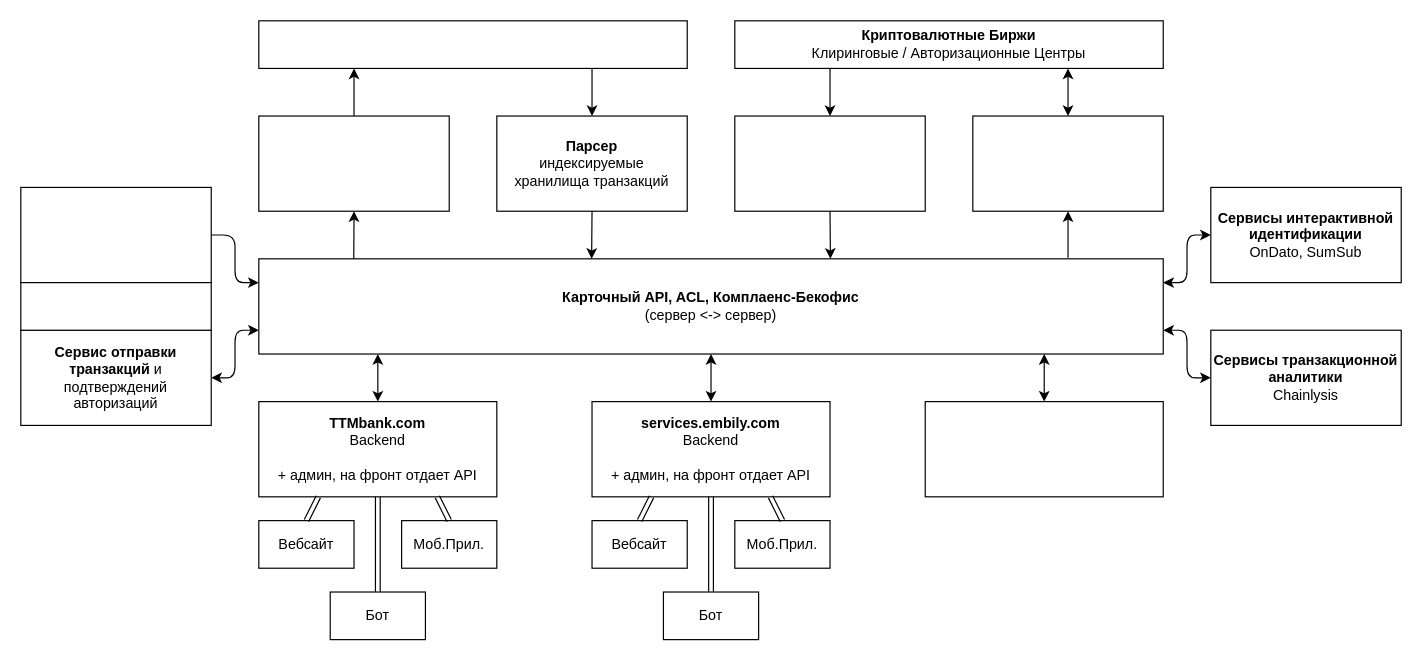
The diagram is 1422 pixels wide and 660 high, and some of its shapes have lost their labels. The shapes that lost their labels are listed below. From the top down, each one's centre as x and y in pixels, then its label:
At point (472, 44): "Блокчейны (Bitcoin, Ethereum, Binance Chain)".
At point (353, 163): "Хранилище Ключей подпись и отправка транзакций".
At point (829, 163): "Тикер мониторинг курсов крипто и валютные".
At point (1067, 163): "Автоматор обменные операции клиринг транзакции".
At point (115, 234): "Сервис авторизаций платежных систем VISA, MC, SWIFT".
At point (115, 305): "Walletto, ePayLinks, Wordline".
At point (1043, 448): "Professional Card Backend нет фронта, только админ".
